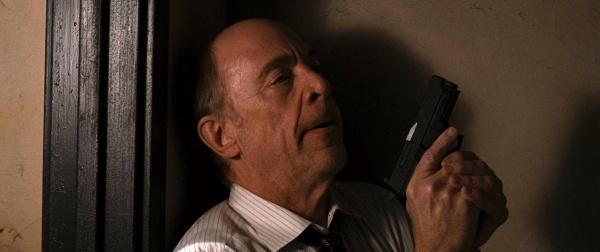Gun: (390, 76, 461, 198)
